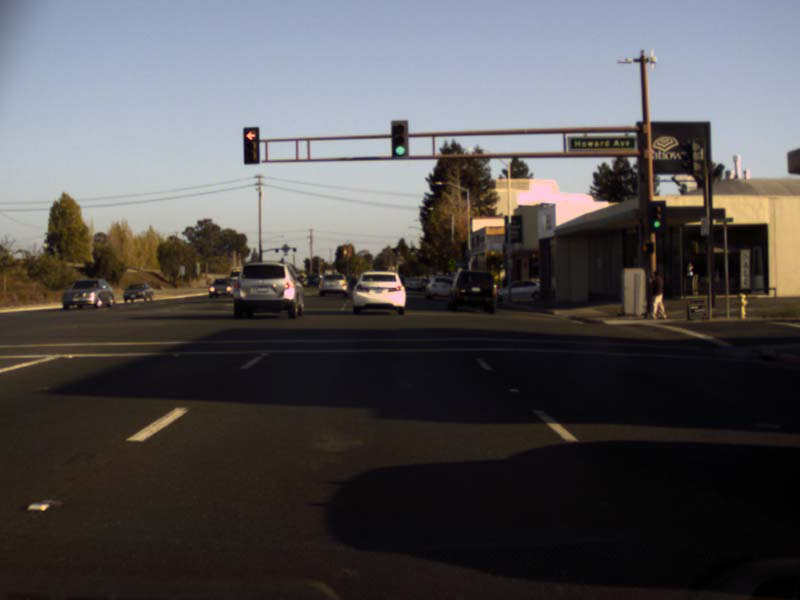Green: (390, 120, 409, 158), (652, 205, 662, 228)
Red: (243, 126, 259, 163)
